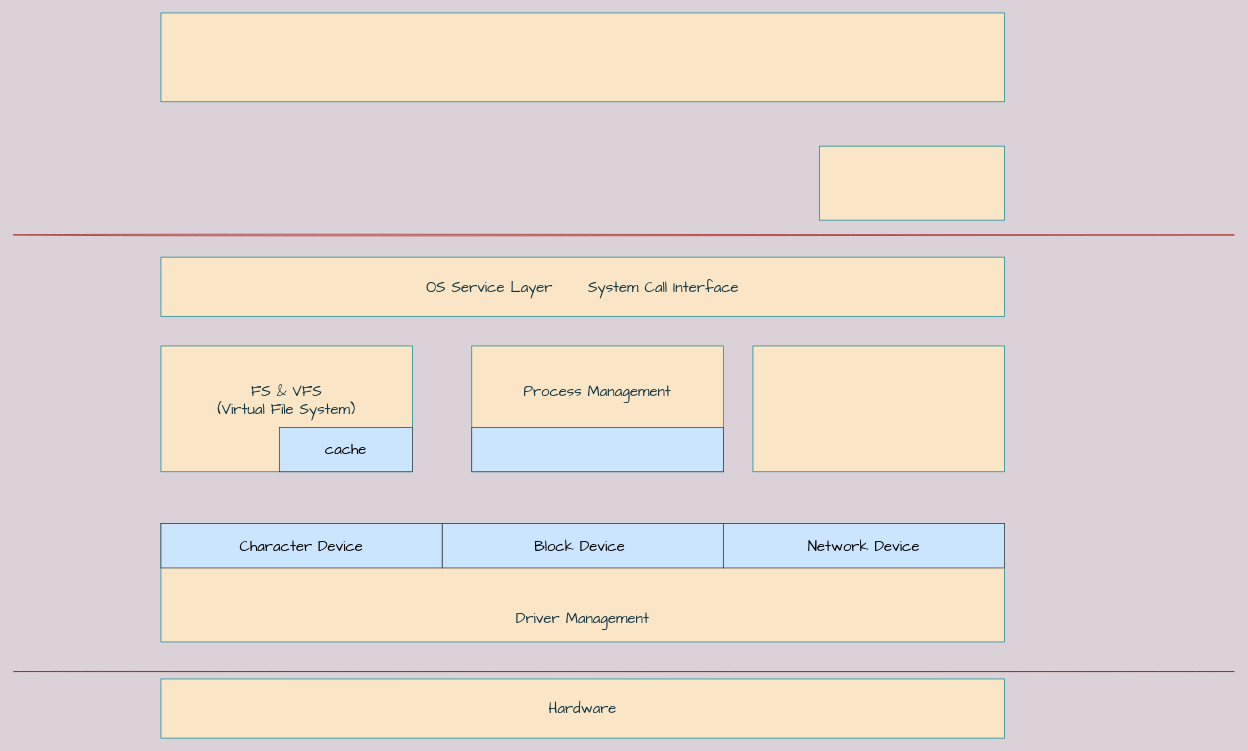
Some shapes in this 1248 by 751 pixel diagram are drawn without their labels. The centre of each missing label's shape, as x and y in pixels:
"IPC(Inter Process Communication)" belongs at point (597, 449).
"Memory Management" belongs at point (878, 408).
"Standard Library or SDK (JAVA)" belongs at point (912, 182).
"User Application" belongs at point (582, 57).
